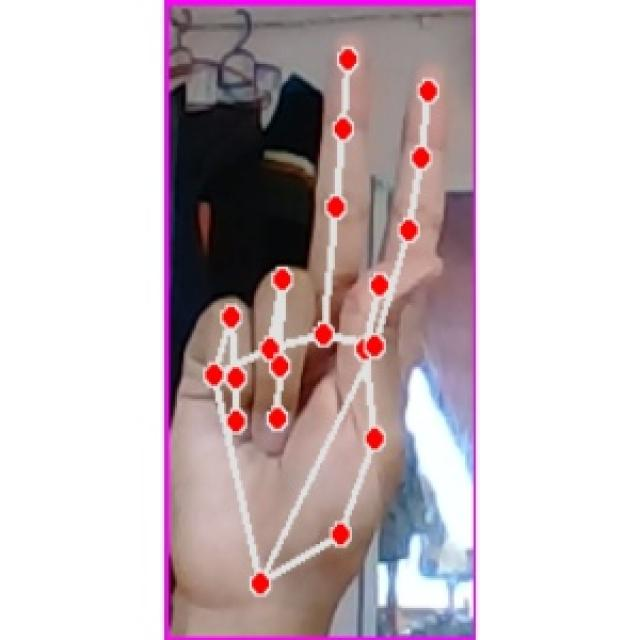K: (175, 24, 458, 617)
